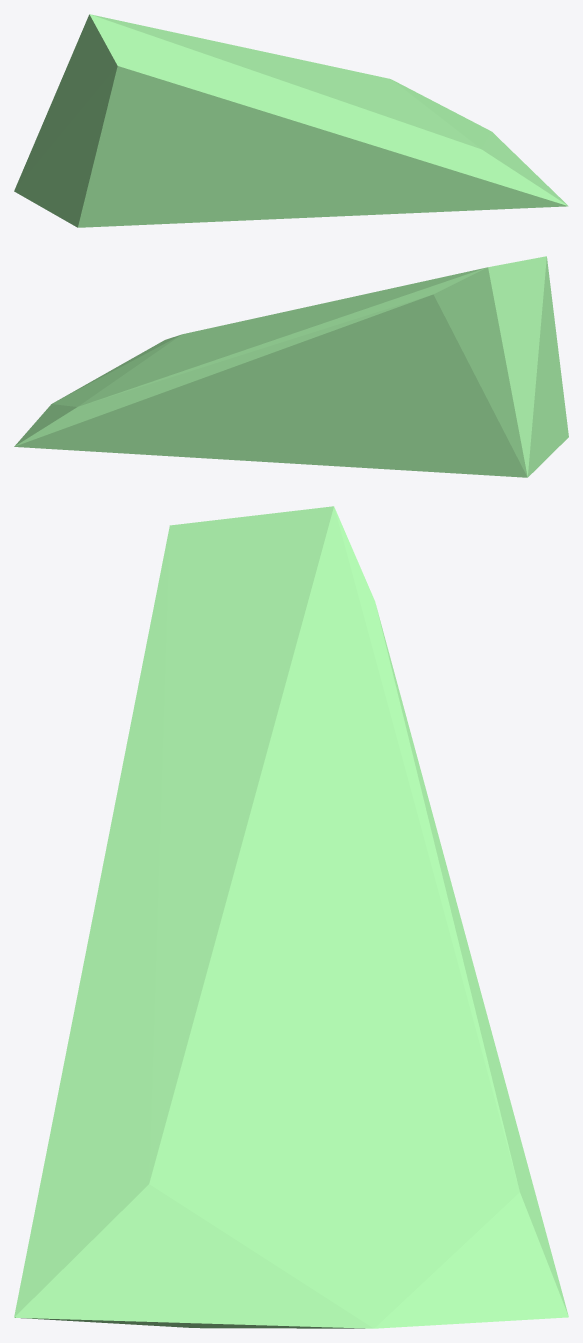
Rendered from UMIRobot_UMIRobot_link_2_convex_coll_8.dae.
The picture shows the model from 3 angles, top to bottom: view 1: azimuth 30°, elevation 25°; view 2: azimuth 150°, elevation 25°; view 3: azimuth 270°, elevation 25°; orthographic projection. The views are drawn at different scales.
Parts seen in each view (by area): view 1: node; view 2: node; view 3: node.
Boxes of the visible parts, x1,y1,x2,y2 form: node: (14,14,568,227); node: (14,256,568,477); node: (14,506,568,1328).
Size of the model in its own units: 0.0356 by 0.0167 by 0.0189.
